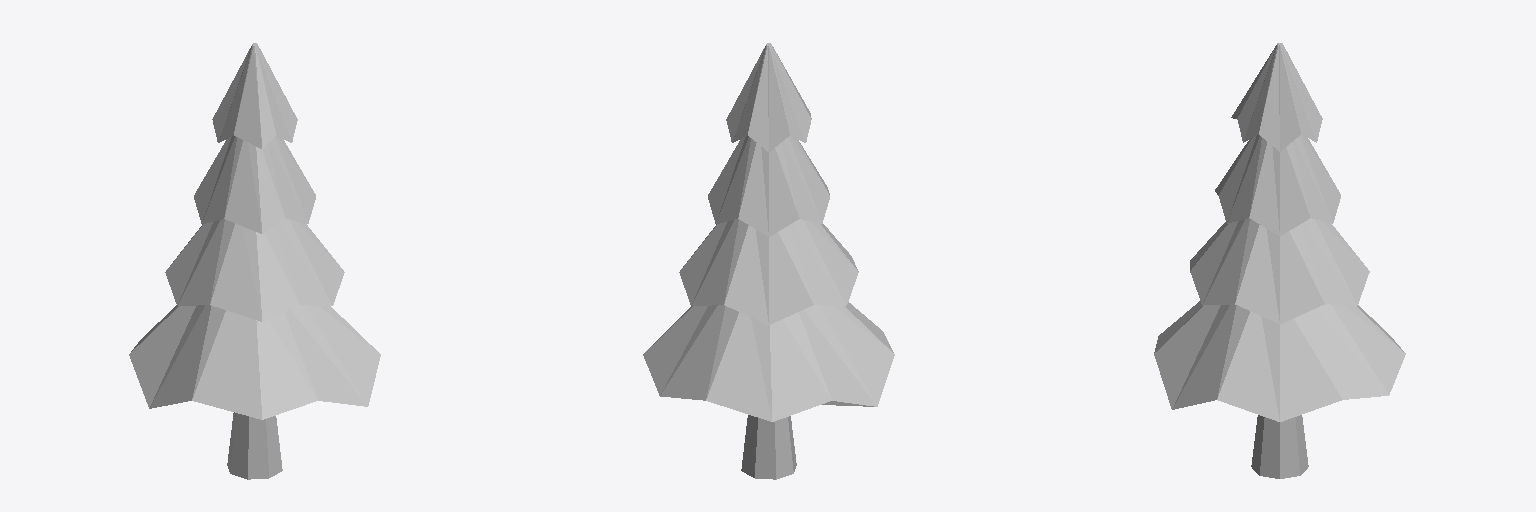
The model's file is again_pine.obj.
3 views of the same model, side by side, from view 1: azimuth 30°, elevation 25°; view 2: azimuth 150°, elevation 25°; view 3: azimuth 270°, elevation 25° (orthographic).
Parts seen in each view (by area): view 1: 柱体; view 2: 柱体; view 3: 柱体.
Boxes of the visible parts, x1=… form: 柱体: x1=129, y1=43, x2=380, y2=479; 柱体: x1=643, y1=43, x2=894, y2=479; 柱体: x1=1154, y1=43, x2=1405, y2=478.
Bounding box in the file's own units: 4.22 × 7.89 × 4.26.